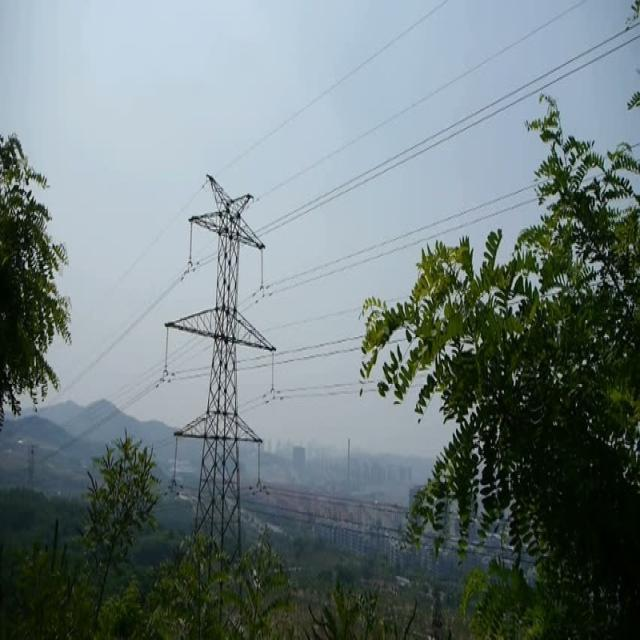non-critical vegetation: (178, 155, 280, 593)
utility poles: (336, 64, 634, 622), (0, 102, 83, 440), (96, 420, 160, 610)
